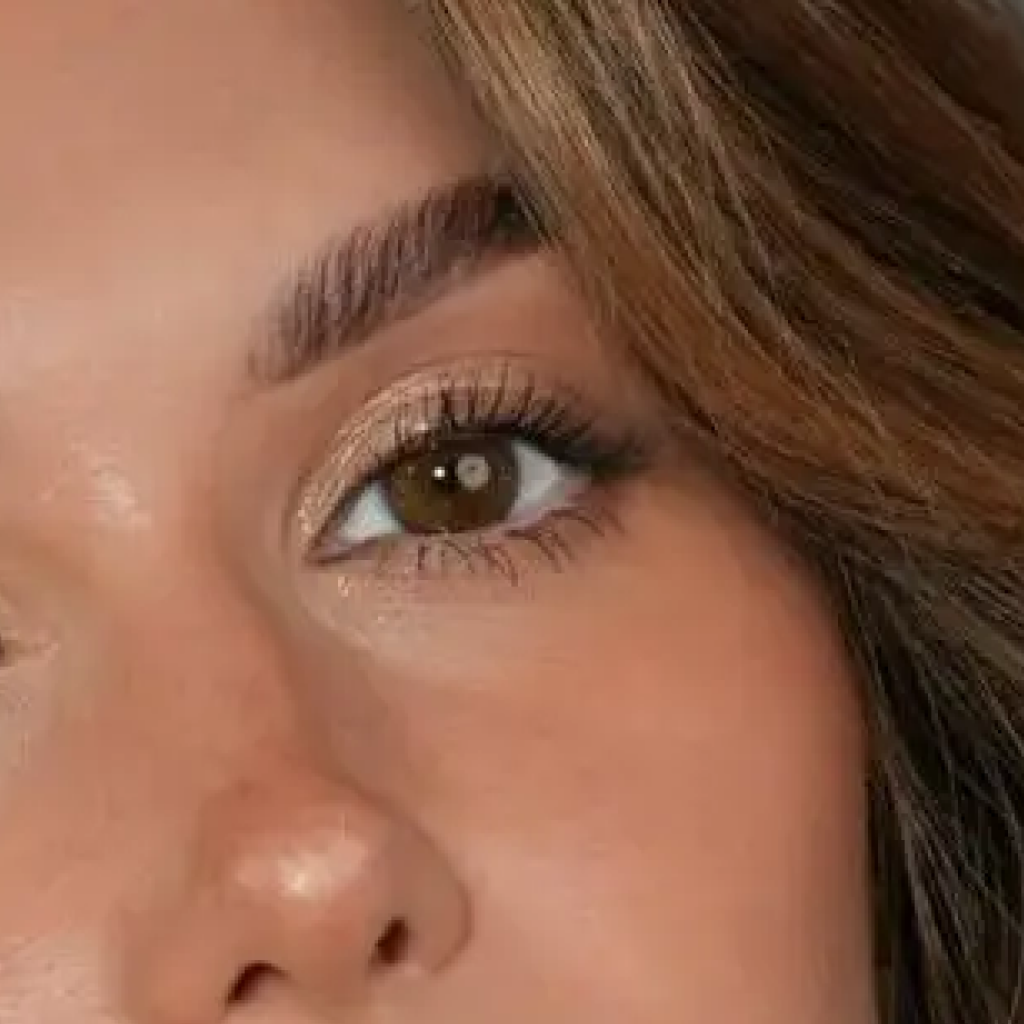iris: (385, 433, 520, 533)
pupil: (430, 456, 466, 490)
sclera: (507, 437, 584, 522), (336, 480, 405, 544)
